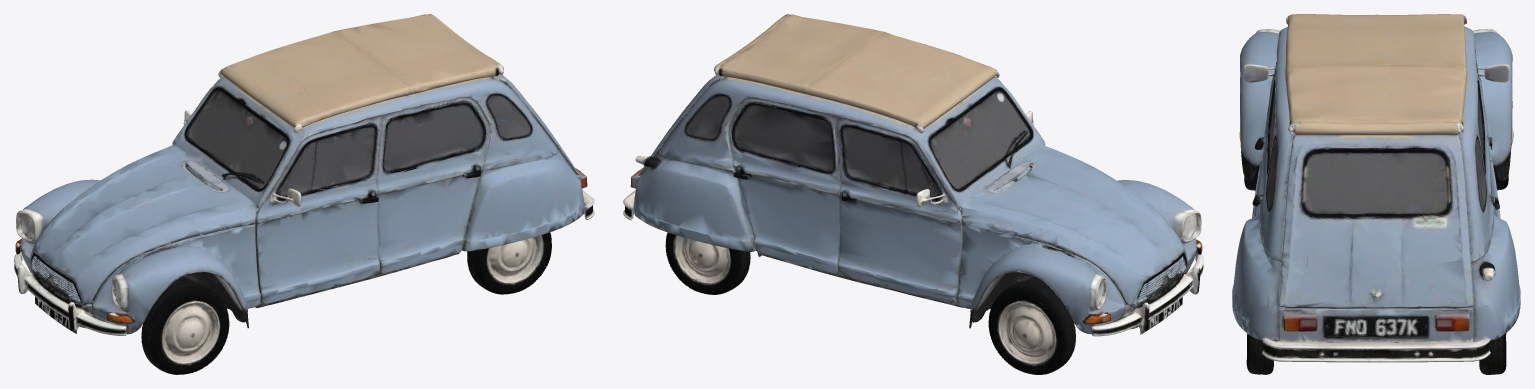
Rendered from french-cheese-SHRINK.glb.
The picture shows the model from 3 angles, left to right: view 1: azimuth 30°, elevation 25°; view 2: azimuth 150°, elevation 25°; view 3: azimuth 270°, elevation 25°; orthographic projection. The views are drawn at different scales.
Parts seen in each view (by area): view 1: object 1, Wheel_FL, Wheel_RL; view 2: object 1, Wheel_FR, Wheel_RR; view 3: object 1, Wheel_RR, Wheel_RL.
Boxes of the visible parts, <box> form: object 1: <box>14,14,594,335</box>; Wheel_FL: <box>141,282,229,374</box>; Wheel_RL: <box>467,232,551,294</box>; object 1: <box>623,14,1203,336</box>; Wheel_FR: <box>988,282,1075,374</box>; Wheel_RR: <box>665,232,750,294</box>; object 1: <box>1232,14,1520,362</box>; Wheel_RR: <box>1479,333,1506,374</box>; Wheel_RL: <box>1246,333,1273,374</box>.
Bounding box in the file's own units: 1.9 × 0.7743 × 0.7995.
1 material, 1 textured.
